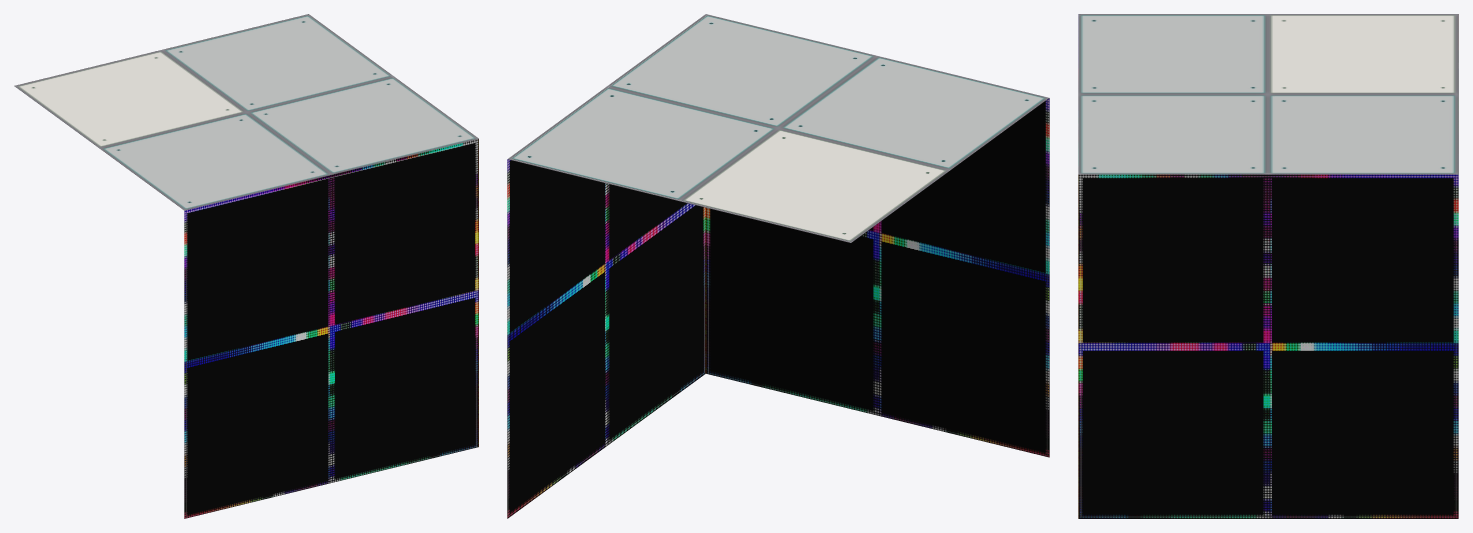
File: new_floor_cube.fbx
3 renders of one model, left to right at view 1: azimuth 30°, elevation 25°; view 2: azimuth 150°, elevation 25°; view 3: azimuth 270°, elevation 25°, orthographic. The views are drawn at different scales.
Visible parts, largest first — view 1: Mesh_Cube; view 2: Mesh_Cube; view 3: Mesh_Cube.
Boxes of the visible parts, left/top/right/bottom form: Mesh_Cube: left=14, top=14, right=478, bottom=518; Mesh_Cube: left=507, top=14, right=1049, bottom=518; Mesh_Cube: left=1078, top=14, right=1458, bottom=518.
Size of the model in its own units: 100 by 100 by 100.
